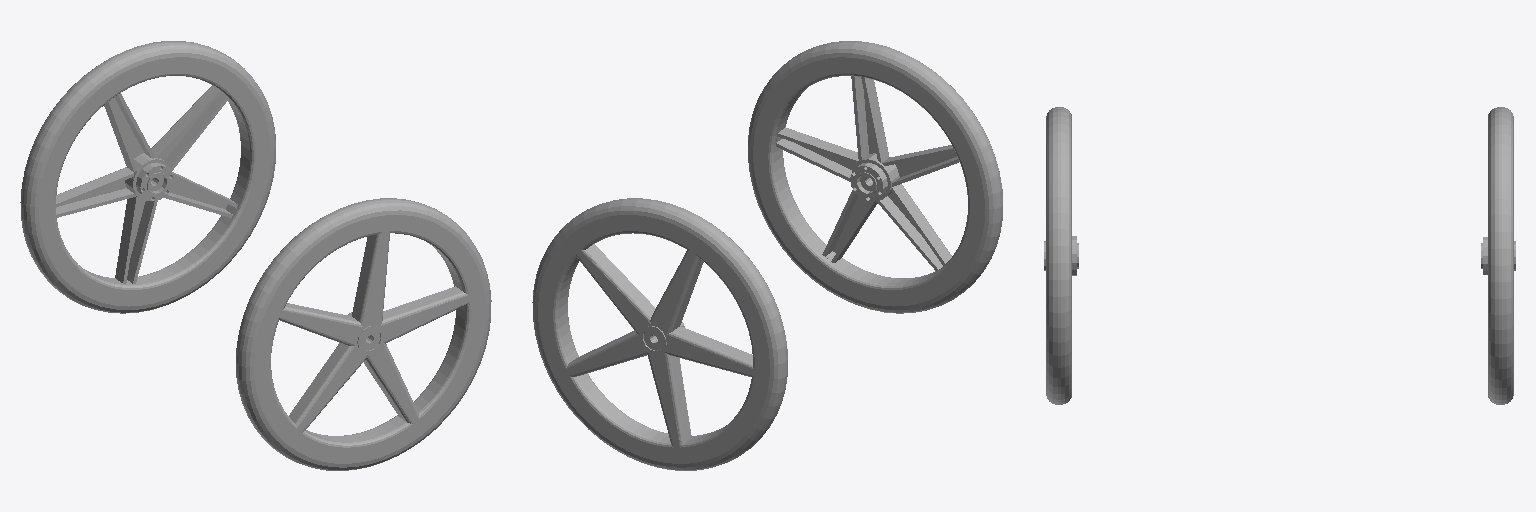
robot.urdf — segway_hsk:
<robot
  name="segway_hsk">
  <link
    name="body">
    <inertial>
      <origin
        xyz="0.0044417 0.0037232 0.1937"
        rpy="0 0 0" />
      <mass
        value="30.923" />
      <inertia
        ixx="4.4396"
        ixy="-0.016922"
        ixz="0.030132"
        iyy="4.1418"
        iyz="0.031966"
        izz="0.68573" />
    </inertial>
    <visual>
      <origin
        xyz="0 0 0"
        rpy="0 0 0" />
      <geometry>
        <mesh
          filename="package://segway_hsk/meshes/body.STL" />
      </geometry>
      <material
        name="">
        <color
          rgba="0.75294 0.75294 0.75294 1" />
      </material>
    </visual>
    <collision>
      <origin
        xyz="0 0 0"
        rpy="0 0 0" />
      <geometry>
        <mesh
          filename="package://segway_hsk/meshes/body.STL" />
      </geometry>
    </collision>
  </link>
  <link
    name="right_wheel">
    <inertial>
      <origin
        xyz="-1.87689058739338E-10 -2.95202132048755E-06 5.09023934114339E-11"
        rpy="0 0 0" />
      <mass
        value="0.848884917782349" />
      <inertia
        ixx="0.0108165340138563"
        ixy="-5.98586064755307E-12"
        ixz="-8.53897139628523E-13"
        iyy="0.0214793018135476"
        iyz="2.64444976697541E-12"
        izz="0.0108165340125372" />
    </inertial>
    <visual>
      <origin
        xyz="0 0 0"
        rpy="0 0 0" />
      <geometry>
        <mesh
          filename="package://segway_hsk/meshes/right_wheel.STL" />
      </geometry>
      <material
        name="">
        <color
          rgba="0.698039215686274 0.698039215686274 0.698039215686274 1" />
      </material>
    </visual>
    <collision>
      <origin
        xyz="0 0 0"
        rpy="0 0 0" />
      <geometry>
        <mesh
          filename="package://segway_hsk/meshes/right_wheel.STL" />
      </geometry>
    </collision>
  </link>
  <joint
    name="right_wheel_joint"
    type="continuous">
    <origin
      xyz="0 -0.28582 0"
      rpy="3.1416 1.4162 -3.1416" />
    <parent
      link="body" />
    <child
      link="right_wheel" />
    <axis
      xyz="0 1 0" />
  </joint>
  <link
    name="left_wheel">
    <inertial>
      <origin
        xyz="1.06409991929013E-10 2.95202132044592E-06 -1.62773350353973E-10"
        rpy="0 0 0" />
      <mass
        value="0.84888491778235" />
      <inertia
        ixx="0.010816534013165"
        ixy="-4.36475213520602E-12"
        ixz="-1.07849124596215E-12"
        iyy="0.0214793018135476"
        iyz="4.87571205186164E-12"
        izz="0.0108165340132284" />
    </inertial>
    <visual>
      <origin
        xyz="0 0 0"
        rpy="0 0 0" />
      <geometry>
        <mesh
          filename="package://segway_hsk/meshes/left_wheel.STL" />
      </geometry>
      <material
        name="">
        <color
          rgba="0.698039215686274 0.698039215686274 0.698039215686274 1" />
      </material>
    </visual>
    <collision>
      <origin
        xyz="0 0 0"
        rpy="0 0 0" />
      <geometry>
        <mesh
          filename="package://segway_hsk/meshes/left_wheel.STL" />
      </geometry>
    </collision>
  </link>
  <joint
    name="left_wheel_joint"
    type="continuous">
    <origin
      xyz="0 0.28582 0"
      rpy="3.1416 1.3432 3.1416" />
    <parent
      link="body" />
    <child
      link="left_wheel" />
    <axis
      xyz="0 -1 0" />
  </joint>
</robot>

--- Render facts (derived) ---
3 views of the same robot in one strip: view 1: azimuth 30°, elevation 25°; view 2: azimuth 150°, elevation 25°; view 3: azimuth 270°, elevation 25° (orthographic).
Robot: segway_hsk — 3 links, 2 joints (2 continuous); root link body; default pose: all joints at 0.
Links seen in each view (by area): view 1: right_wheel, left_wheel; view 2: right_wheel, left_wheel; view 3: right_wheel, left_wheel.
Link boxes in pixels (x1,y1,x2,y2): right_wheel: (236,198,491,470); left_wheel: (20,41,275,313); right_wheel: (748,41,1002,313); left_wheel: (532,198,787,470); right_wheel: (1044,107,1078,404); left_wheel: (1481,107,1515,404).
Size in the robot's own frame: 0.3849 by 0.6082 by 0.3848 metres.
2 mesh visuals loaded from 3 distinct referenced files (2 binary STL); not drawn: 1 (reference not matched to a file when rendering).